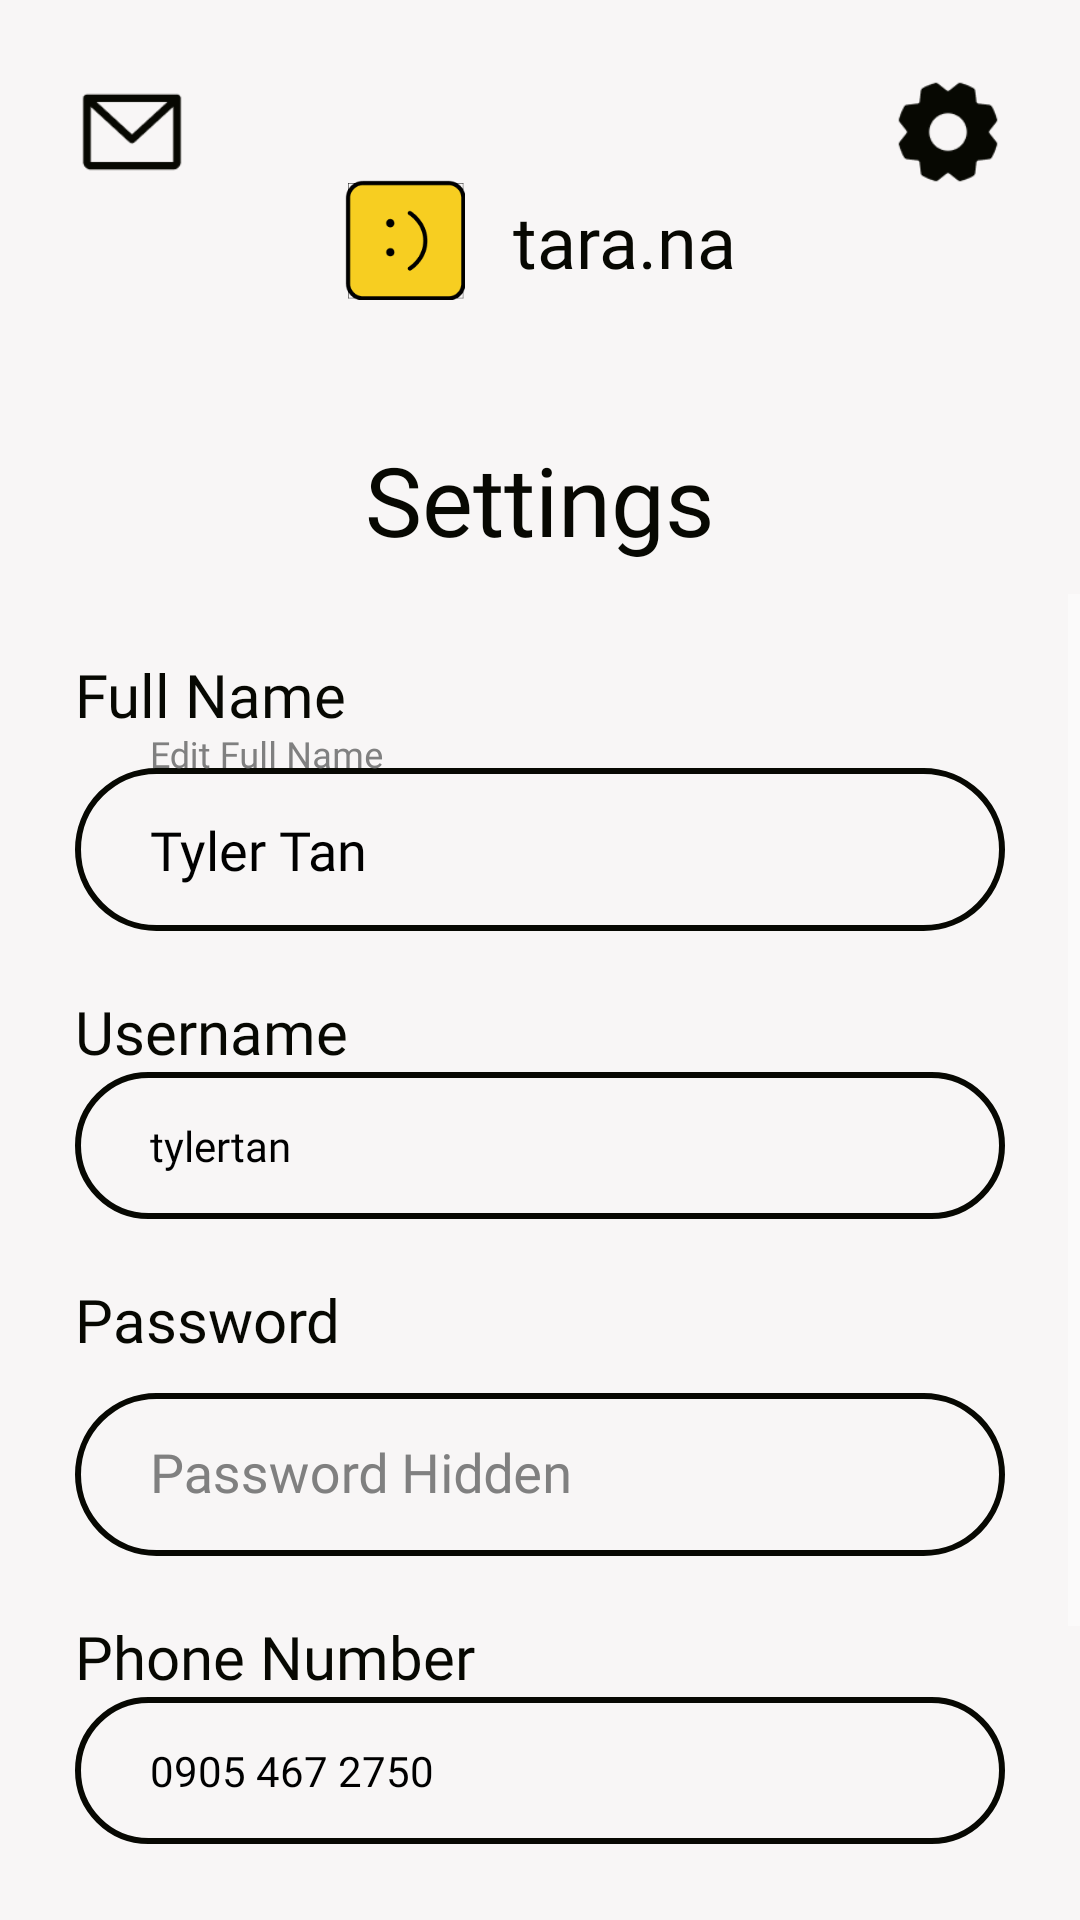

Icons on this 1080x1920 Android screen, each with its box as (x1, y1, x2, y2):
inbox: (82, 93, 182, 171)
settings: (898, 82, 998, 182)
